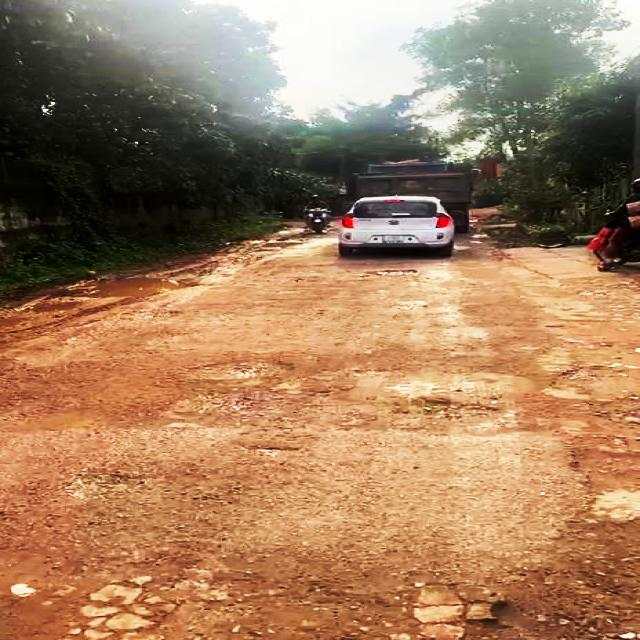pothole: (550, 361, 640, 597), (44, 572, 214, 640), (400, 577, 539, 640), (389, 391, 495, 423), (181, 357, 299, 383), (197, 389, 273, 418), (361, 268, 418, 278)
